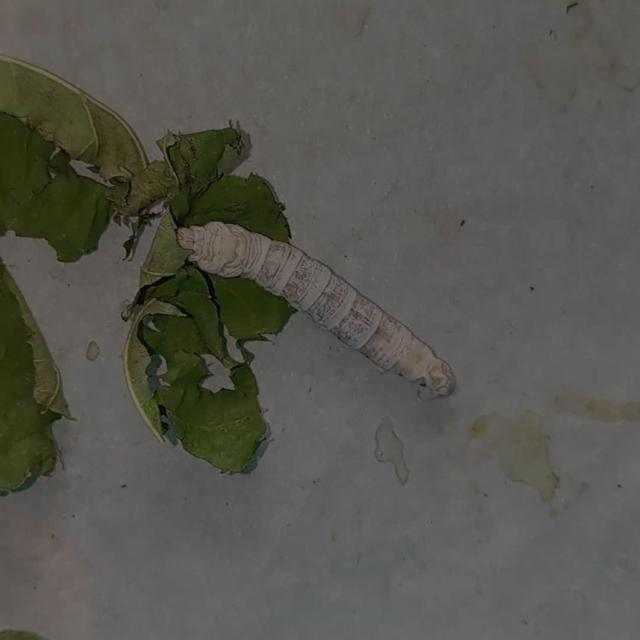Grasserie: (170, 198, 463, 410)
